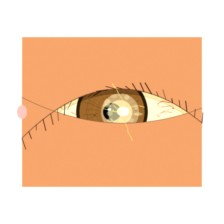corneal_ulcer: (100, 96, 140, 128)
